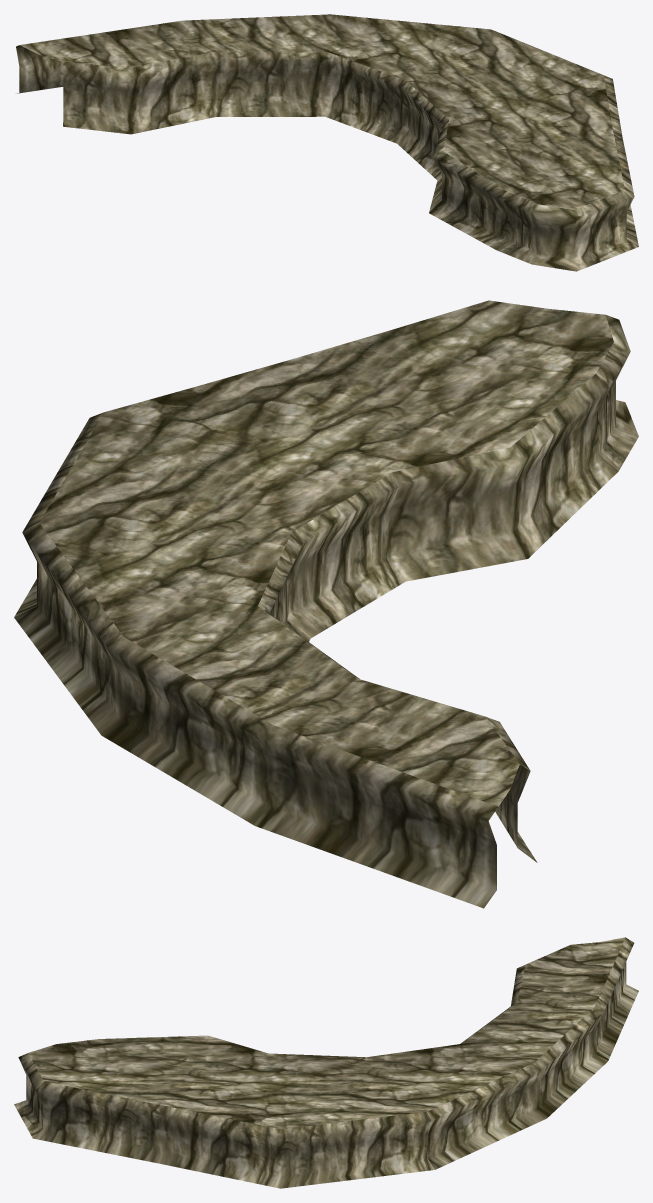
The model's file is CB_NEWPLAYSURFACE_CB_PLAYSURFACE114.fbx.
3 renders of one model, top to bottom at view 1: azimuth 30°, elevation 25°; view 2: azimuth 150°, elevation 25°; view 3: azimuth 270°, elevation 25°, orthographic. The views are drawn at different scales.
Visible parts, largest first — view 1: CB_NEWPLAYSURFACE_CB_PLAYSURFACE114; view 2: CB_NEWPLAYSURFACE_CB_PLAYSURFACE114; view 3: CB_NEWPLAYSURFACE_CB_PLAYSURFACE114.
Boxes of the visible parts, box(x1,y1,x2,y2) form: CB_NEWPLAYSURFACE_CB_PLAYSURFACE114: box(16, 14, 638, 271); CB_NEWPLAYSURFACE_CB_PLAYSURFACE114: box(14, 300, 638, 908); CB_NEWPLAYSURFACE_CB_PLAYSURFACE114: box(14, 937, 638, 1188).
Bounding box in the file's own units: 217920 × 30009 × 289905.
2 materials, 2 textured.
